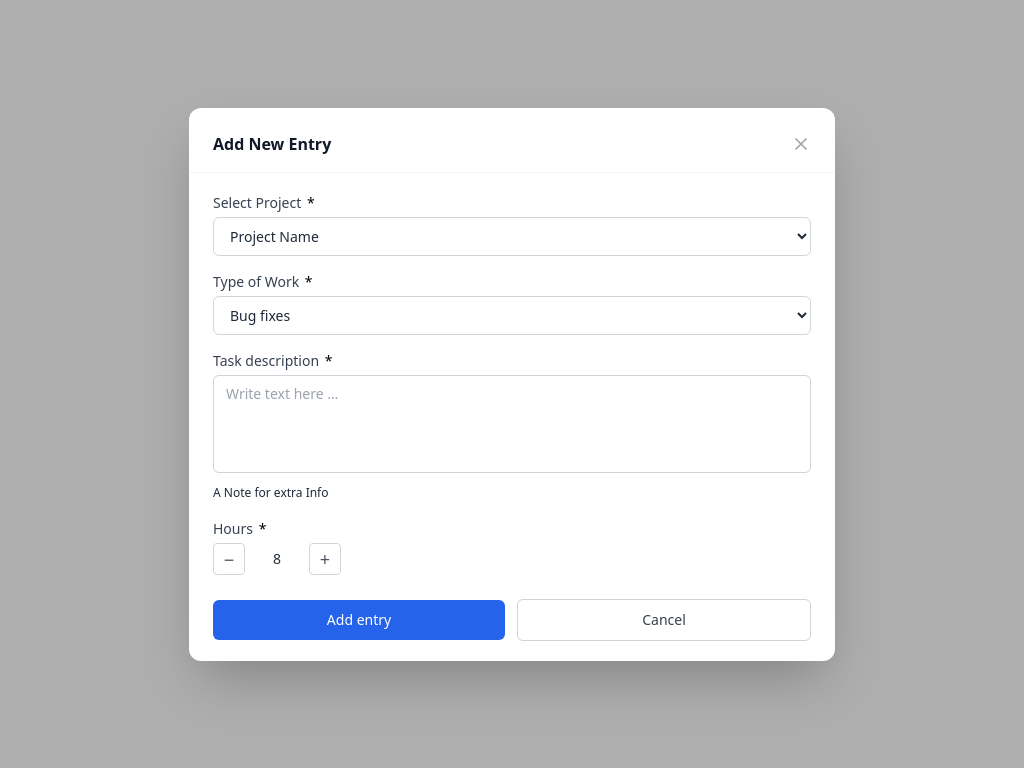
Test: AddEntryModal › increments and decrements hours with stepper buttons
This screenshot has width=1024, height=768.
Expected: the text "8" is shown, [273,548,281,568]
Click the button named "Increase hours" at (325,558), box [309,542,341,574]
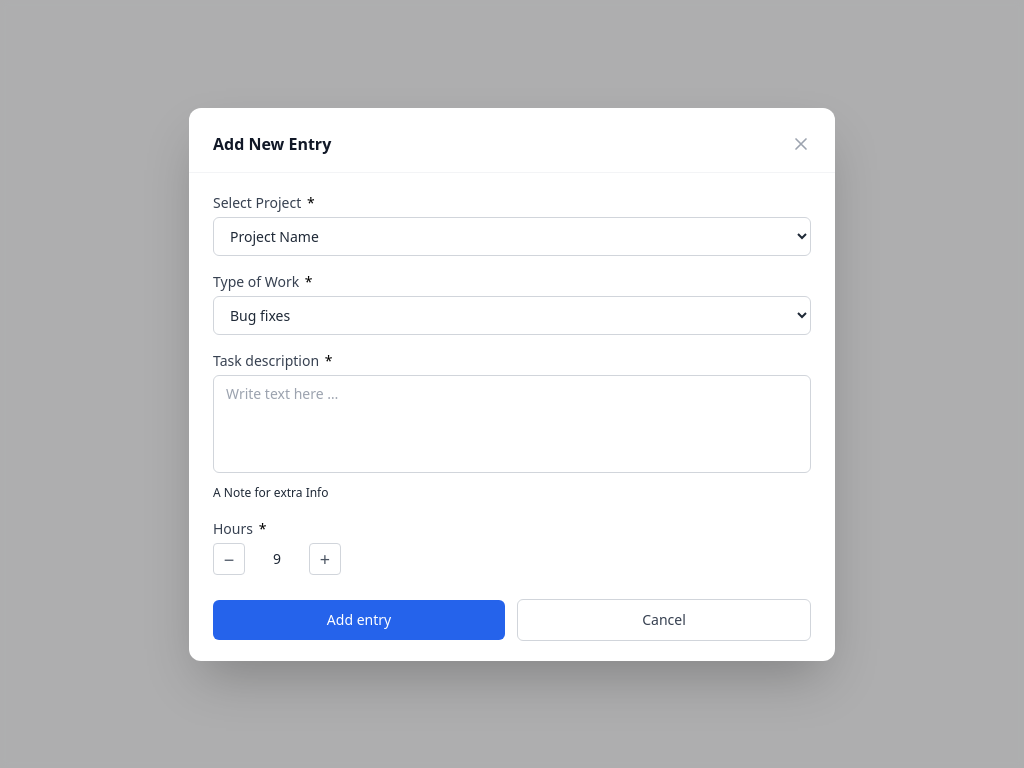
Result: the text "9" is shown at [273,548,281,568]
Click the button named "Decrease hours" at (229,558), box [213,542,245,574]
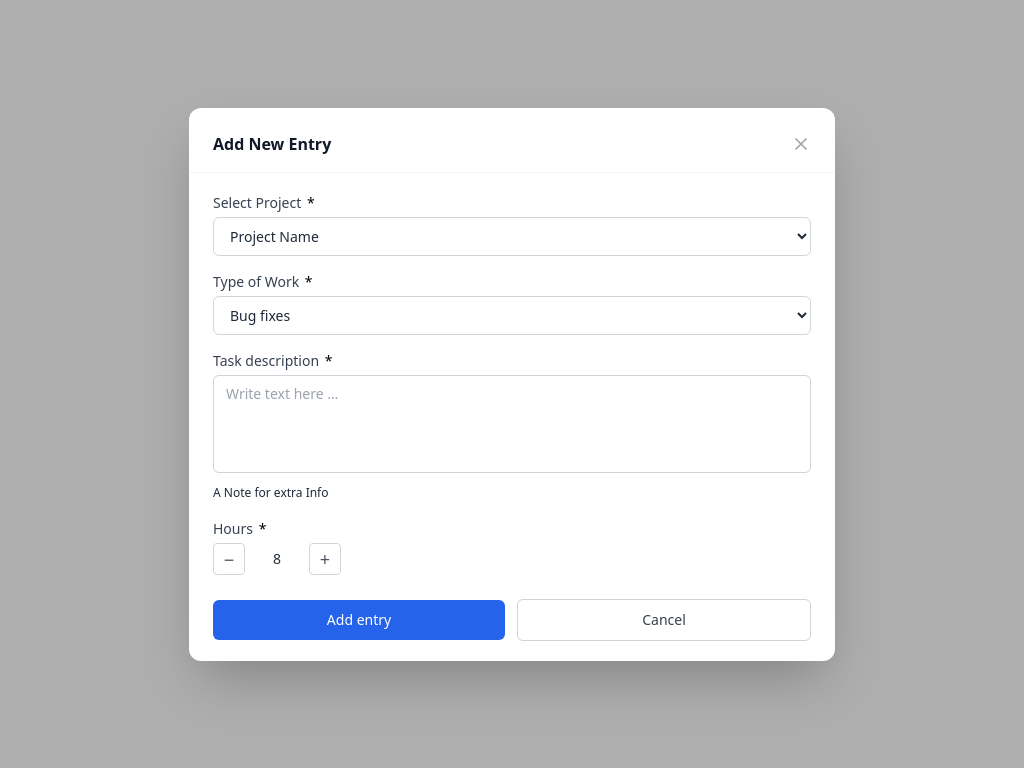
Click the button named "Decrease hours" at (229,558), box [213,542,245,574]
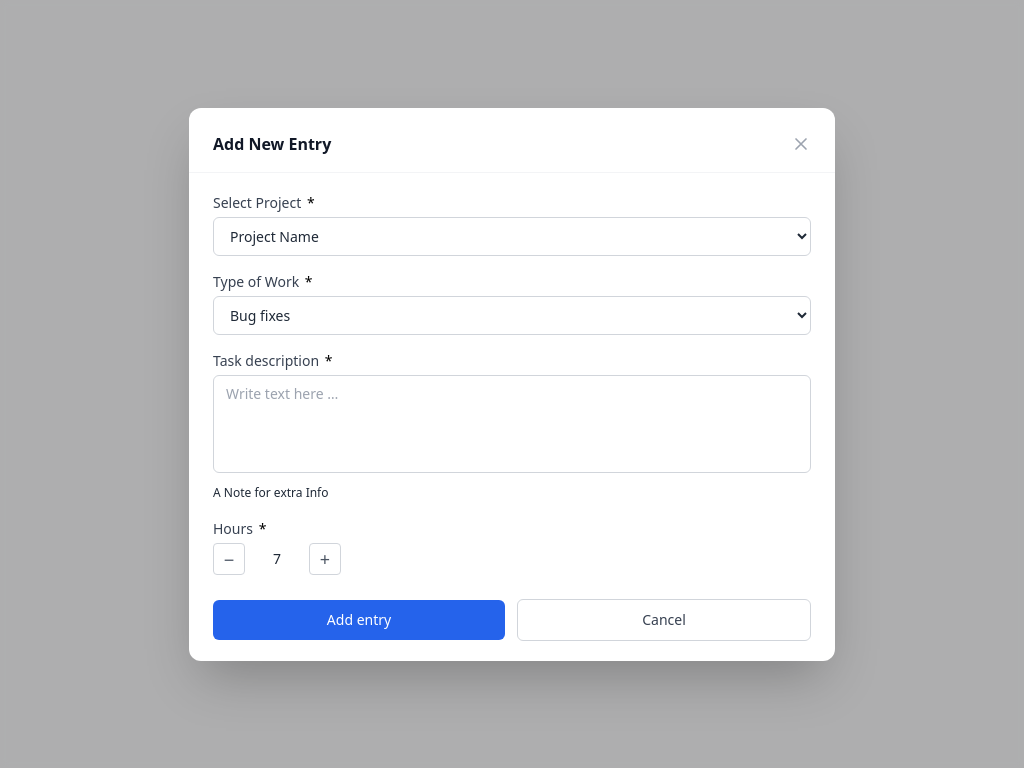
Result: the text "7" is shown at [273,548,281,568]
